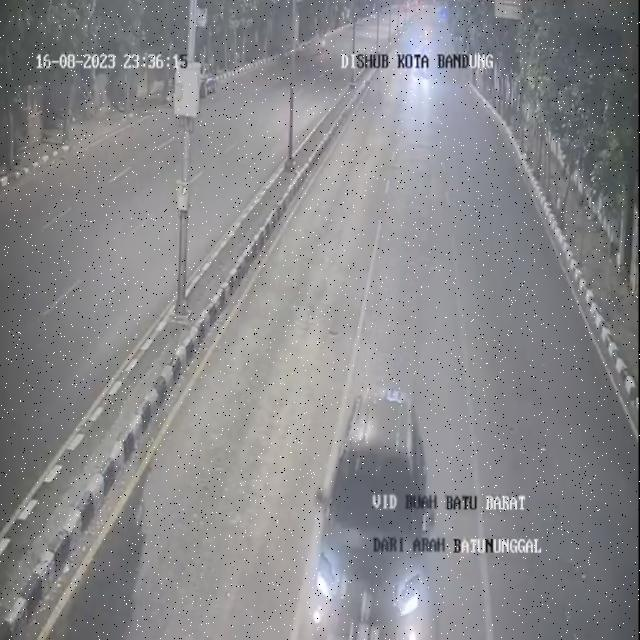cars: (287, 394, 447, 639)
